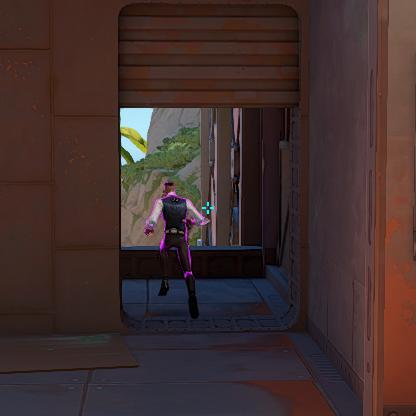enemyBody: (167, 199, 183, 229)
enemyHead: (165, 185, 173, 191)
